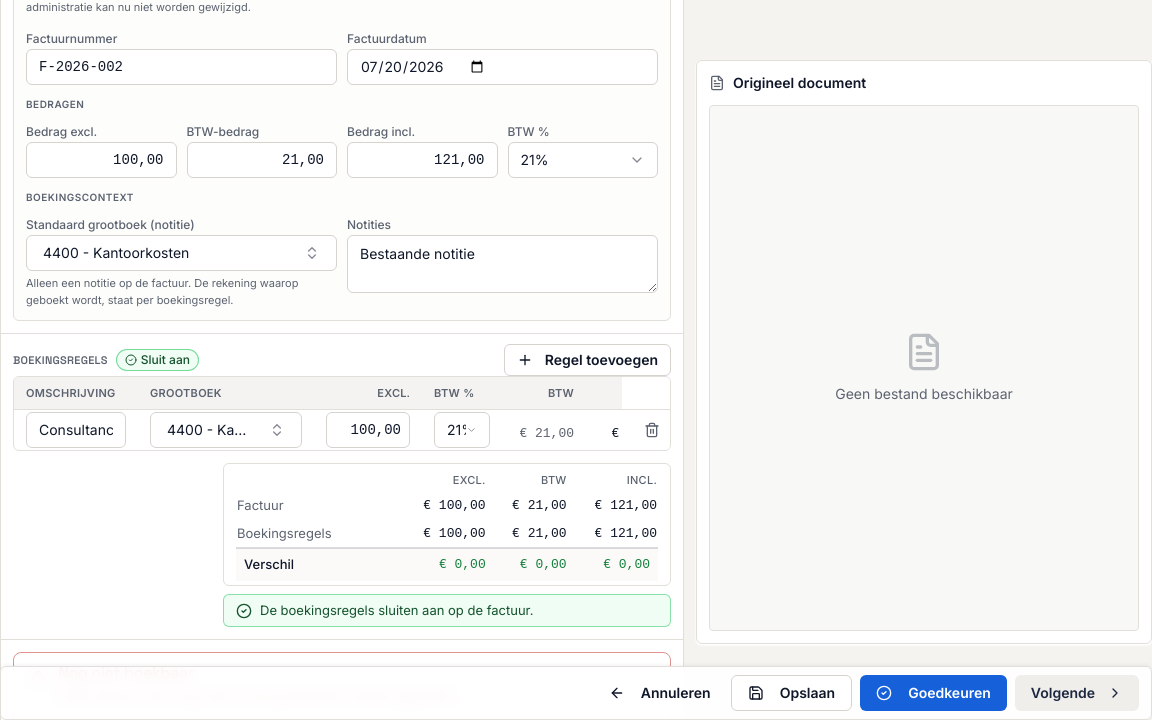
Test: PurchaseInvoiceWorkspace — opslaan / goedkeuren gates › 20. Opslaan is enabled bij complete regels en disabled bij een partial regel
(page scrolled)
Expected: the button "Opslaan" is enabled, top-left (731, 675), bottom-right (852, 711)
Click the button "Regel toevoegen": (587, 360) top-left (504, 344), bottom-right (671, 376)
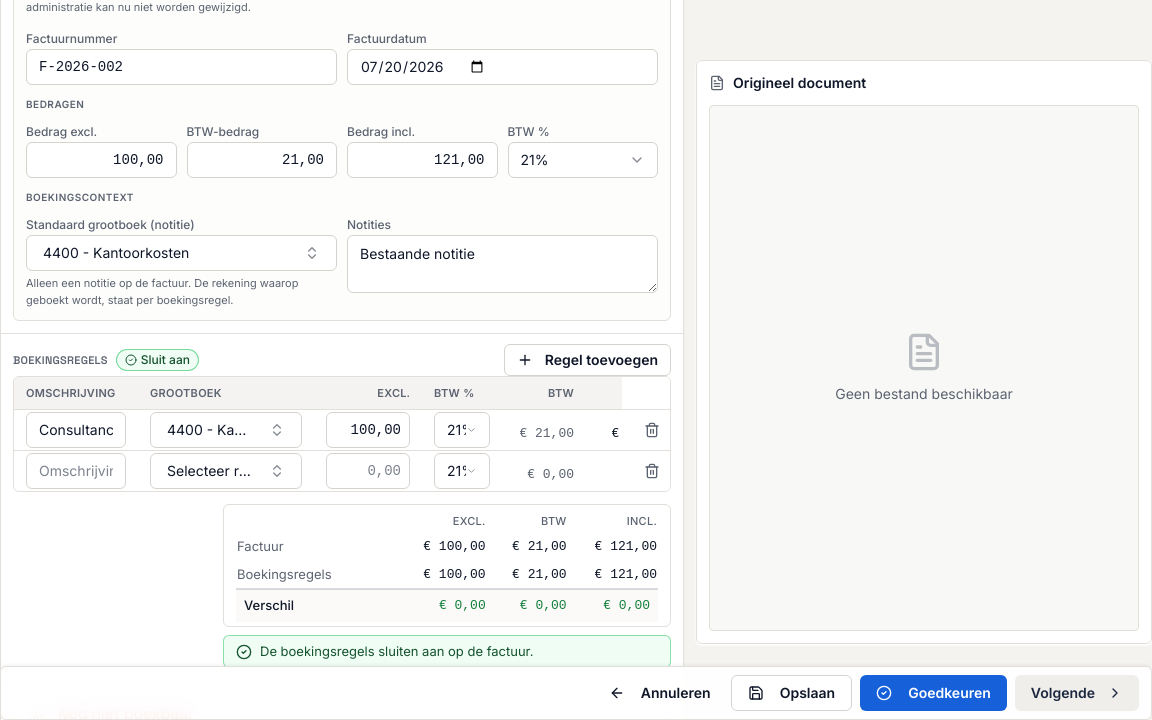
In the field with placeholder "Omschrijving": (76, 470) top-left (26, 452), bottom-right (126, 488), type "half"
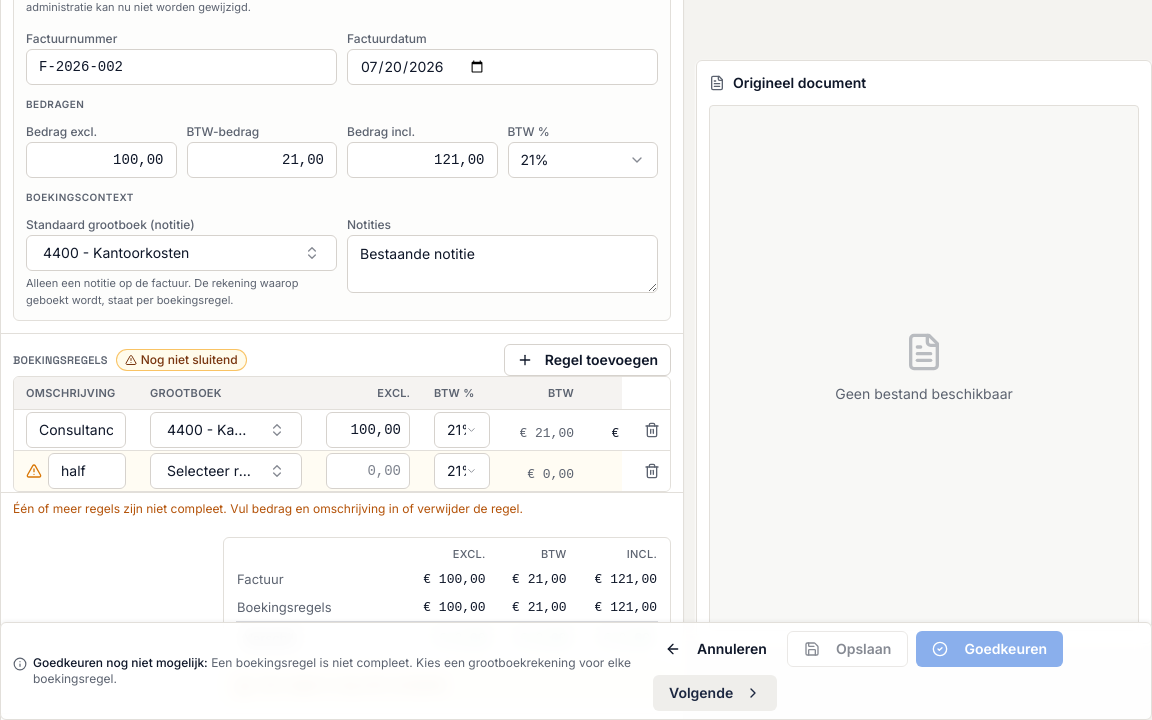
Now the button "Opslaan" is disabled, box top-left (787, 631), bottom-right (908, 667)
